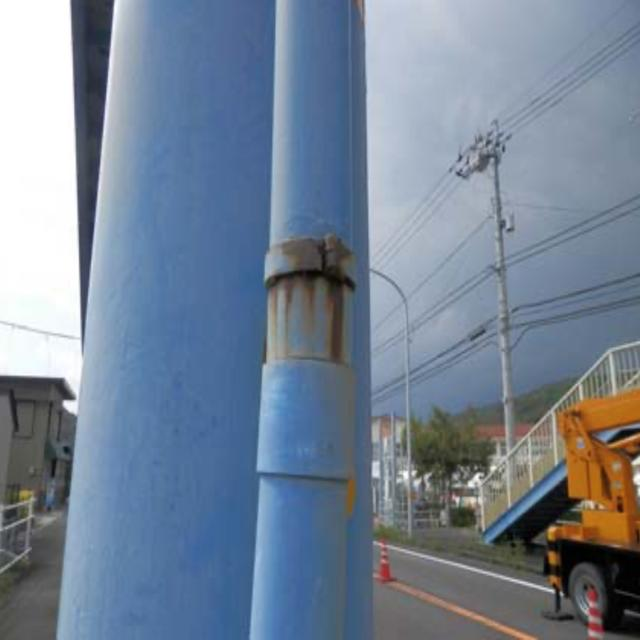corrosion: (224, 197, 350, 399)
